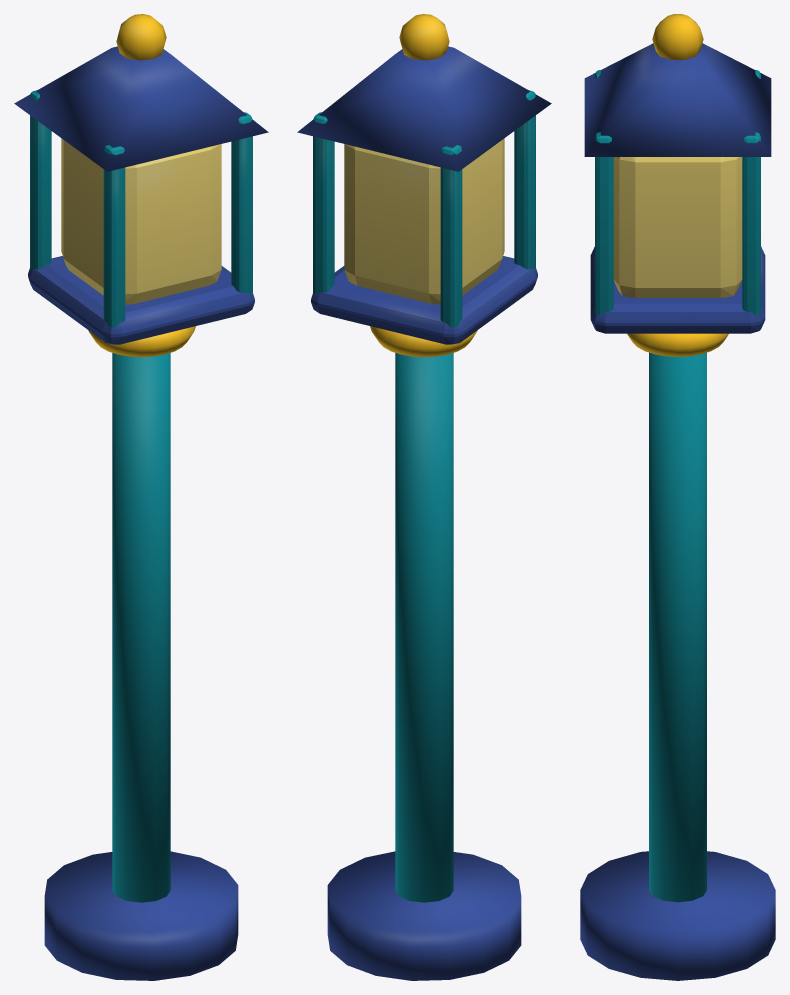
Rendered from LampPost.fbx.
3 views of the same model, side by side, from view 1: azimuth 30°, elevation 25°; view 2: azimuth 150°, elevation 25°; view 3: azimuth 270°, elevation 25° (orthographic).
Parts seen in each view (by area): view 1: LampPost; view 2: LampPost; view 3: LampPost.
Boxes of the visible parts, x1,y1,x2,y2 form: LampPost: (14,14,268,980); LampPost: (297,14,551,980); LampPost: (580,14,775,980).
Bounding box in the file's own units: 1.14 × 5.95 × 1.14.
1 material, 1 textured.
